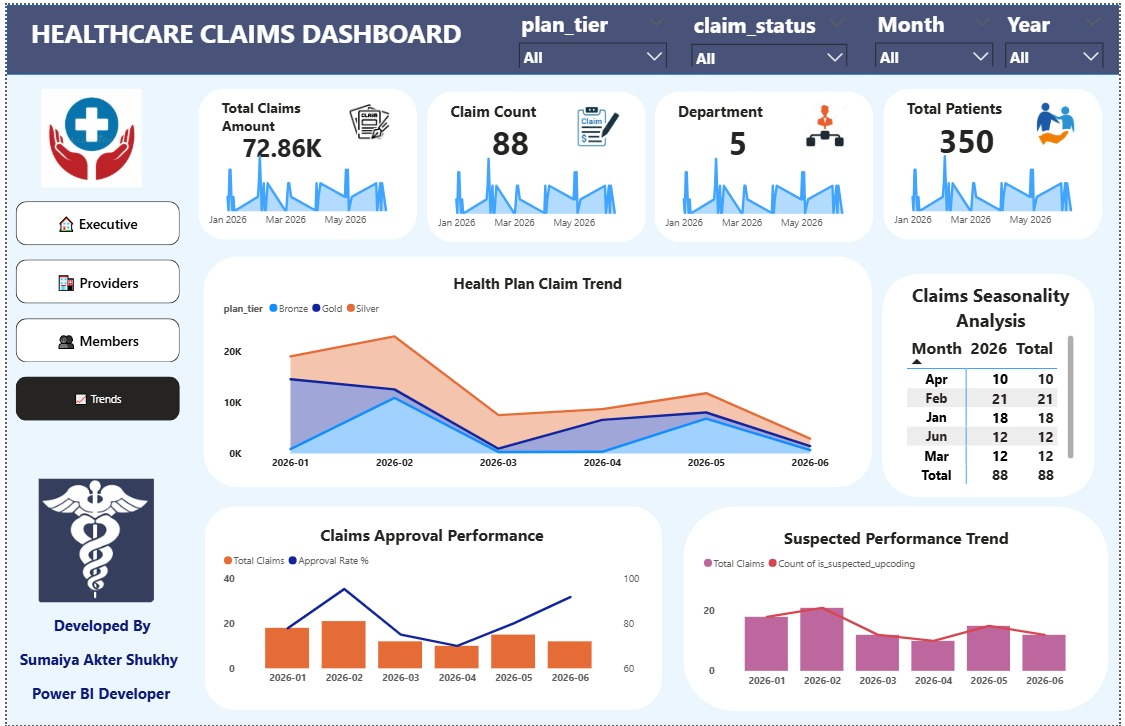

Layout of this report page (visuals, bound fields, positions):
{"tool":"powerbi","page":{"name":"📈 Trends","canvas":[1390,900],"ordinal":3},"visuals":[{"type":"group","id":"g1","title":"Group 1","box":[0,0,1800,745.9],"z":0},{"type":"shape","box":[239.3,104.9,273.4,188.6],"z":0,"group":"g2"},{"type":"shape","box":[1095.1,104.9,273.4,188.6],"z":0,"group":"g9"},{"type":"shape","box":[524.6,108.2,273.4,188.6],"z":0,"group":"g7"},{"type":"shape","box":[809.8,108.2,273.4,188.6],"z":0,"group":"g8"},{"type":"card","title":"Total Claims Amount","fields":{"Values":["public fact_claims.Total Claims Amount"]},"box":[262.8,116.1,162.5,82.5],"z":0,"group":"g3"},{"type":"card","title":"Total Patients","fields":{"Values":["Count(public dim_patients.patient_id)"]},"box":[1118.6,116.1,162.5,82.5],"z":0,"group":"g4"},{"type":"card","title":"Claim Count","fields":{"Values":["CountNonNull(public fact_claims.claim_id)"]},"box":[548.1,119.4,162.5,82.5],"z":0,"group":"g5"},{"type":"card","title":"Department","fields":{"Values":["Count(public dim_procedures.department)"]},"box":[833.3,119.4,162.5,82.5],"z":0,"group":"g6"},{"type":"lineClusteredColumnComboChart","title":"Claims Approval Performance","fields":{"Category":["Calendar.Year Month"],"Y":["public fact_claims.Total Claims"],"Y2":["public fact_claims.Approval Rate %"]},"box":[265.6,648.4,531.2,210.9],"z":0,"group":"g10"},{"type":"lineClusteredColumnComboChart","title":"Suspected Performance Trend","fields":{"Category":["Calendar.Year Month"],"Y":["public fact_claims.Total Claims"],"Y2":["CountNonNull(public fact_claims.is_suspected_upcoding)"]},"box":[865.6,651.6,492.2,210.9],"z":0,"group":"g13"},{"type":"group","id":"g2","title":"Group 3","box":[239.3,104.9,273.8,188.5],"z":1000},{"type":"group","id":"g3","title":"Group 2","box":[246.7,116.1,258.1,171.2],"z":1000,"group":"g2"},{"type":"group","id":"g4","title":"Group 2","box":[1102.5,116.1,258.1,171.2],"z":1000,"group":"g9"},{"type":"group","id":"g5","title":"Group 2","box":[532,119.4,258.1,171.2],"z":1000,"group":"g7"},{"type":"group","id":"g6","title":"Group 2","box":[817.2,119.4,258.1,171.2],"z":1000,"group":"g8"},{"type":"areaChart","fields":{"Y":["public fact_claims.Total Claims"],"Category":["Calendar.Date.Variation.Date Hierarchy.Year","Calendar.Date.Variation.Date Hierarchy.Quarter","Calendar.Date.Variation.Date Hierarchy.Month","Calendar.Date.Variation.Date Hierarchy.Day"]},"box":[246.7,175.2,258.1,112.1],"z":1000,"group":"g3"},{"type":"areaChart","fields":{"Y":["public fact_claims.Total Claims"],"Category":["Calendar.Date.Variation.Date Hierarchy.Year","Calendar.Date.Variation.Date Hierarchy.Quarter","Calendar.Date.Variation.Date Hierarchy.Month","Calendar.Date.Variation.Date Hierarchy.Day"]},"box":[1102.5,175.2,258.1,112.1],"z":1000,"group":"g4"},{"type":"areaChart","fields":{"Y":["public fact_claims.Total Claims"],"Category":["Calendar.Date.Variation.Date Hierarchy.Year","Calendar.Date.Variation.Date Hierarchy.Quarter","Calendar.Date.Variation.Date Hierarchy.Month","Calendar.Date.Variation.Date Hierarchy.Day"]},"box":[532,178.5,258.1,112.1],"z":1000,"group":"g5"},{"type":"areaChart","fields":{"Y":["public fact_claims.Total Claims"],"Category":["Calendar.Date.Variation.Date Hierarchy.Year","Calendar.Date.Variation.Date Hierarchy.Quarter","Calendar.Date.Variation.Date Hierarchy.Month","Calendar.Date.Variation.Date Hierarchy.Day"]},"box":[817.2,178.5,258.1,112.1],"z":1000,"group":"g6"},{"type":"pageNavigator","box":[10.9,245.4,205.9,276.8],"z":1000,"group":"g1"},{"type":"shape","box":[0,0,1800,86.9],"z":2000,"group":"g1"},{"type":"group","id":"g7","title":"Group 3","box":[524.6,108.2,272.1,186.9],"z":2000},{"type":"image","box":[425.3,121,56.5,54.2],"z":2000,"group":"g3"},{"type":"image","box":[1281.1,121,56.5,54.2],"z":2000,"group":"g4"},{"type":"image","box":[710.6,124.3,56.5,54.2],"z":2000,"group":"g5"},{"type":"image","box":[995.8,124.3,56.5,54.2],"z":2000,"group":"g6"},{"type":"textbox","box":[24.6,8.2,572.1,78.7],"z":3000,"group":"g1"},{"type":"group","id":"g8","title":"Group 3","box":[809.8,108.2,273.8,188.5],"z":3000},{"type":"group","id":"g9","title":"Group 3","box":[1095.1,104.9,272.1,188.5],"z":4000},{"type":"image","box":[16.4,591.8,191.8,154.1],"z":4000,"group":"g1"},{"type":"image","box":[18,104.9,173.8,123],"z":5000,"group":"g1"},{"type":"shape","box":[246.9,626.6,571.9,254.7],"z":5000},{"type":"group","id":"g10","title":"Group 4","box":[265.6,648.4,531.2,210.9],"z":6000},{"type":"group","id":"g11","title":"Group 5","box":[245.9,314.8,836.1,288.5],"z":7000},{"type":"shape","box":[845.3,626.6,531.2,256.2],"z":8000},{"type":"group","id":"g12","title":"Group 6","box":[1093.8,335.9,265.6,279.7],"z":9000},{"type":"group","id":"g13","title":"Group 4","box":[865.6,651.6,492.2,210.9],"z":10000},{"type":"shape","box":[245.9,314.8,836.1,288.5],"z":10001,"group":"g11"},{"type":"shape","box":[1093.8,335.9,265.6,279.7],"z":10004,"group":"g12"},{"type":"stackedAreaChart","title":"Health Plan Claim Trend","fields":{"Category":["Calendar.Year Month"],"Series":["public dim_plans.plan_tier"],"Y":["public fact_claims.Total Claims Amount"]},"box":[265.7,335.2,795.4,256.5],"z":10501,"group":"g11"},{"type":"pivotTable","title":"Claims Seasonality Analysis","fields":{"Rows":["Calendar.Month"],"Columns":["Calendar.Year"],"Values":["public fact_claims.Total Claims"]},"box":[1120.4,347.4,218.8,256.6],"z":10504,"group":"g12"},{"type":"textbox","box":[11.5,757.4,218,132.8],"z":11000},{"type":"slicer","fields":{"Values":["Calendar.Year"]},"box":[1237.7,0,142.6,78.7],"z":12000},{"type":"slicer","fields":{"Values":["Calendar.Month"]},"box":[1075.4,0,167.2,77],"z":13000},{"type":"slicer","fields":{"Values":["public fact_claims.claim_status"]},"box":[845.9,1.6,214.8,75.4],"z":14000},{"type":"slicer","fields":{"Values":["public dim_plans.plan_tier"]},"box":[629.5,0,204.9,78.7],"z":15000}]}

Visuals, with their boxes in screenshot pixels (x1, y1, x2, y2), scaled from the page's 1390x900 canvas onto the 1125x726 screenshot:
"Group 1" group: l=0, t=0, r=1124, b=602
shape: l=194, t=85, r=415, b=237
shape: l=886, t=85, r=1108, b=237
shape: l=425, t=87, r=646, b=239
shape: l=655, t=87, r=877, b=239
"Total Claims Amount" card: l=213, t=94, r=344, b=160
"Total Patients" card: l=905, t=94, r=1037, b=160
"Claim Count" card: l=444, t=96, r=575, b=163
"Department" card: l=674, t=96, r=806, b=163
"Claims Approval Performance" lineClusteredColumnComboChart: l=215, t=523, r=645, b=693
"Suspected Performance Trend" lineClusteredColumnComboChart: l=701, t=526, r=1099, b=696
"Group 3" group: l=194, t=85, r=415, b=237
"Group 2" group: l=200, t=94, r=409, b=232
"Group 2" group: l=892, t=94, r=1101, b=232
"Group 2" group: l=431, t=96, r=639, b=234
"Group 2" group: l=661, t=96, r=870, b=234
areaChart - public fact_claims.Total Claims x Calendar.Date.Variation.Date Hierarchy.Year: l=200, t=141, r=409, b=232
areaChart - public fact_claims.Total Claims x Calendar.Date.Variation.Date Hierarchy.Year: l=892, t=141, r=1101, b=232
areaChart - public fact_claims.Total Claims x Calendar.Date.Variation.Date Hierarchy.Year: l=431, t=144, r=639, b=234
areaChart - public fact_claims.Total Claims x Calendar.Date.Variation.Date Hierarchy.Year: l=661, t=144, r=870, b=234
pageNavigator: l=9, t=198, r=175, b=421
shape: l=0, t=0, r=1124, b=70
"Group 3" group: l=425, t=87, r=645, b=238
image: l=344, t=98, r=390, b=141
image: l=1037, t=98, r=1083, b=141
image: l=575, t=100, r=621, b=144
image: l=806, t=100, r=852, b=144
textbox: l=20, t=7, r=483, b=70
"Group 3" group: l=655, t=87, r=877, b=239
"Group 3" group: l=886, t=85, r=1107, b=237
image: l=13, t=477, r=169, b=602
image: l=15, t=85, r=155, b=184
shape: l=200, t=505, r=663, b=711
"Group 4" group: l=215, t=523, r=645, b=693
"Group 5" group: l=199, t=254, r=876, b=487
shape: l=684, t=505, r=1114, b=712
"Group 6" group: l=885, t=271, r=1100, b=497
"Group 4" group: l=701, t=526, r=1099, b=696
shape: l=199, t=254, r=876, b=487
shape: l=885, t=271, r=1100, b=497
"Health Plan Claim Trend" stackedAreaChart: l=215, t=270, r=859, b=477
"Claims Seasonality Analysis" pivotTable: l=907, t=280, r=1084, b=487
textbox: l=9, t=611, r=186, b=718
slicer - Calendar.Year: l=1002, t=0, r=1117, b=63
slicer - Calendar.Month: l=870, t=0, r=1006, b=62
slicer - public fact_claims.claim_status: l=685, t=1, r=858, b=62
slicer - public dim_plans.plan_tier: l=509, t=0, r=675, b=63
